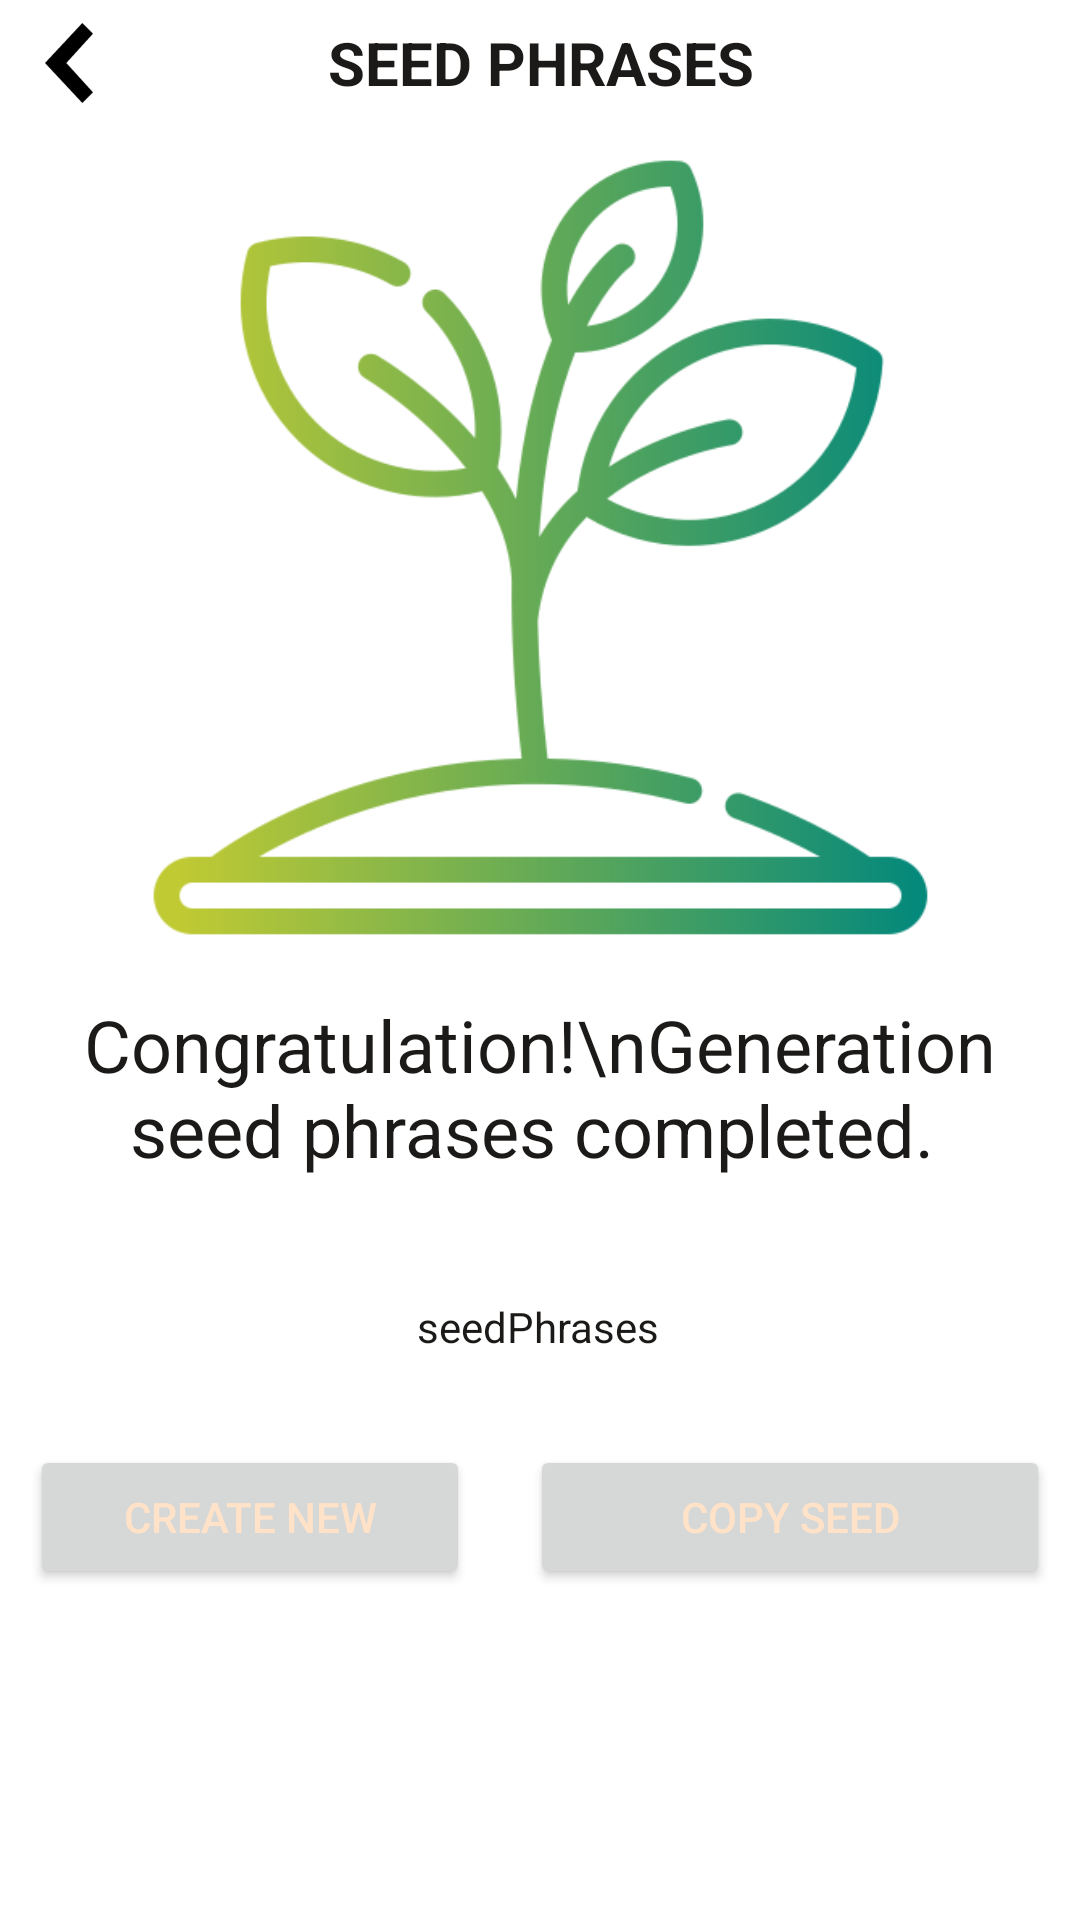

Named icons in this screenshot (1080px×1920px) and their bounding boxes, bbox(x1, y1, x2, y2):
back arrow: bbox(45, 23, 93, 103)
